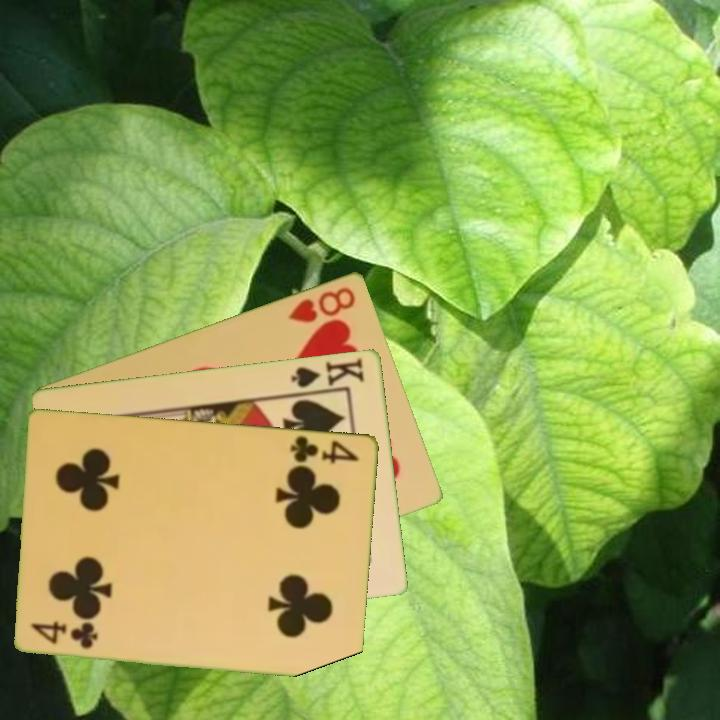4c: (287, 431, 363, 466), (28, 619, 101, 652)
8h: (285, 282, 359, 325)
Ks: (288, 354, 367, 396)
